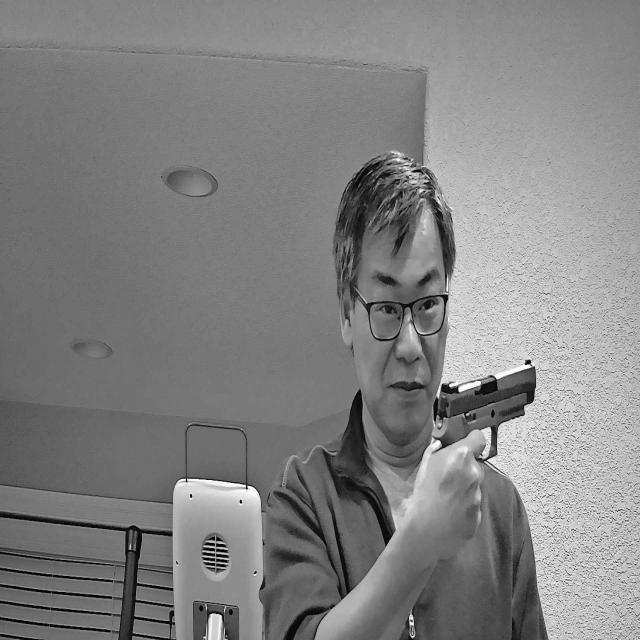Hand-Gun: (420, 352, 542, 564)
